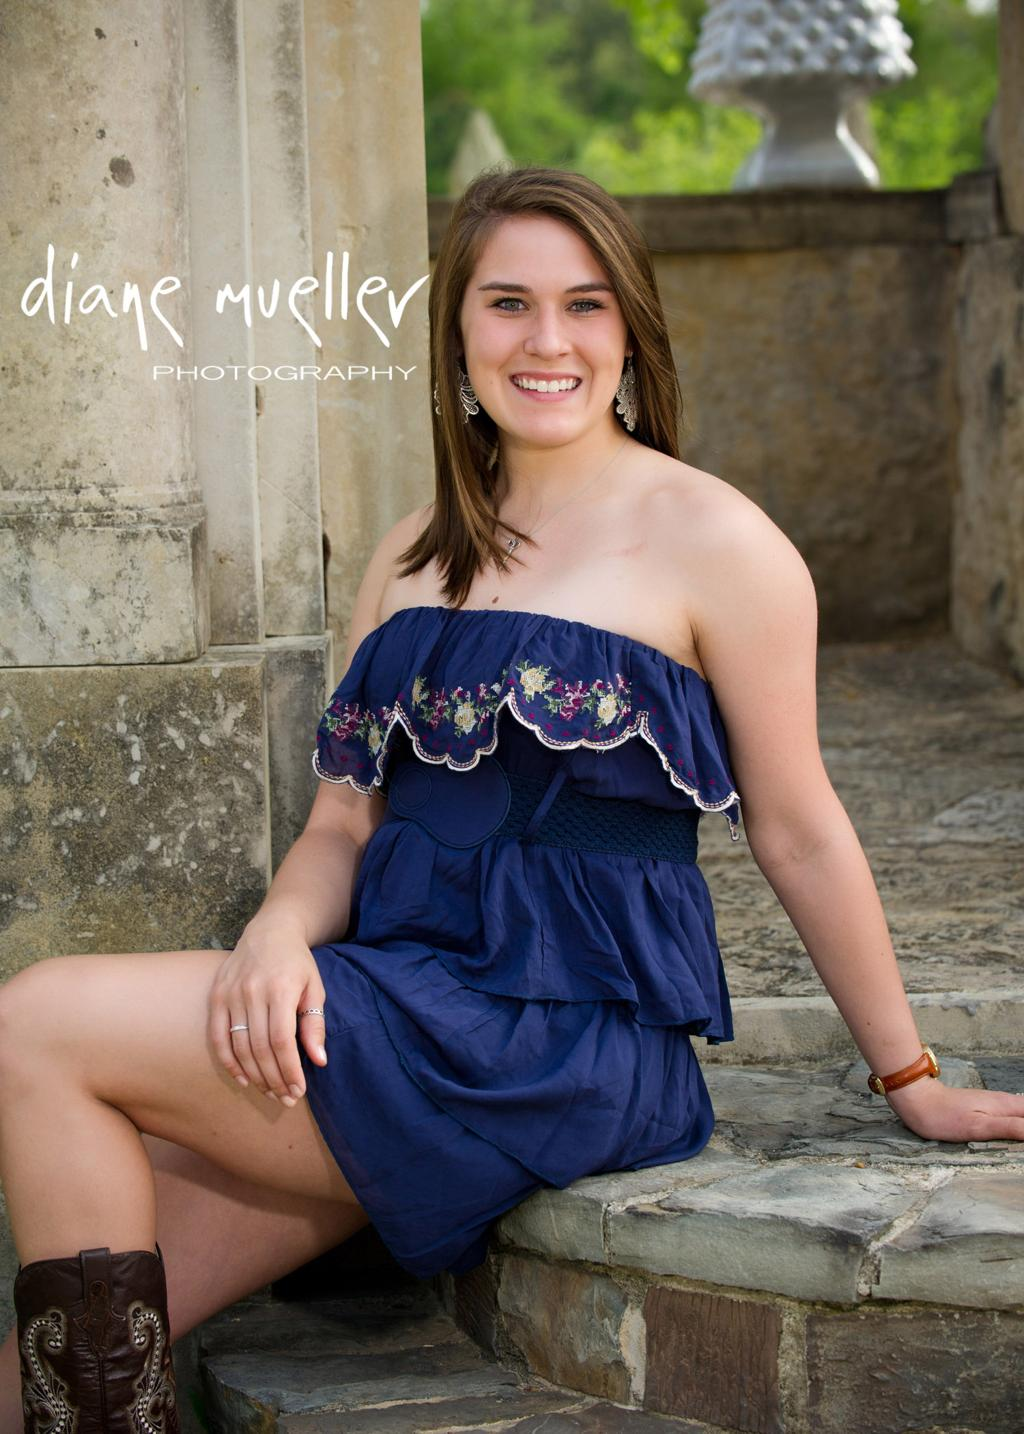face: (459, 215, 618, 450)
